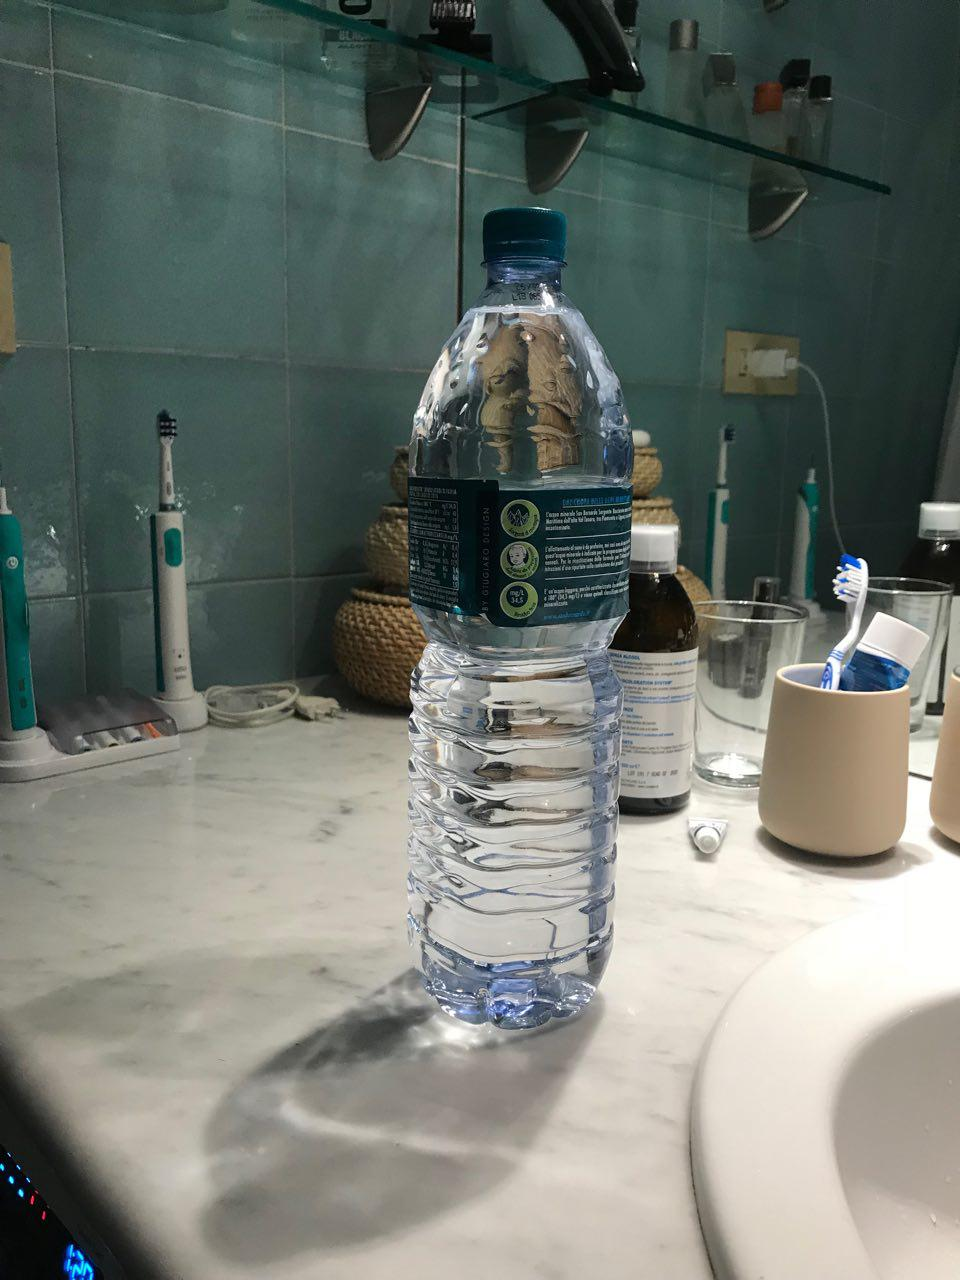san_bernardo: (406, 205, 635, 1030)
